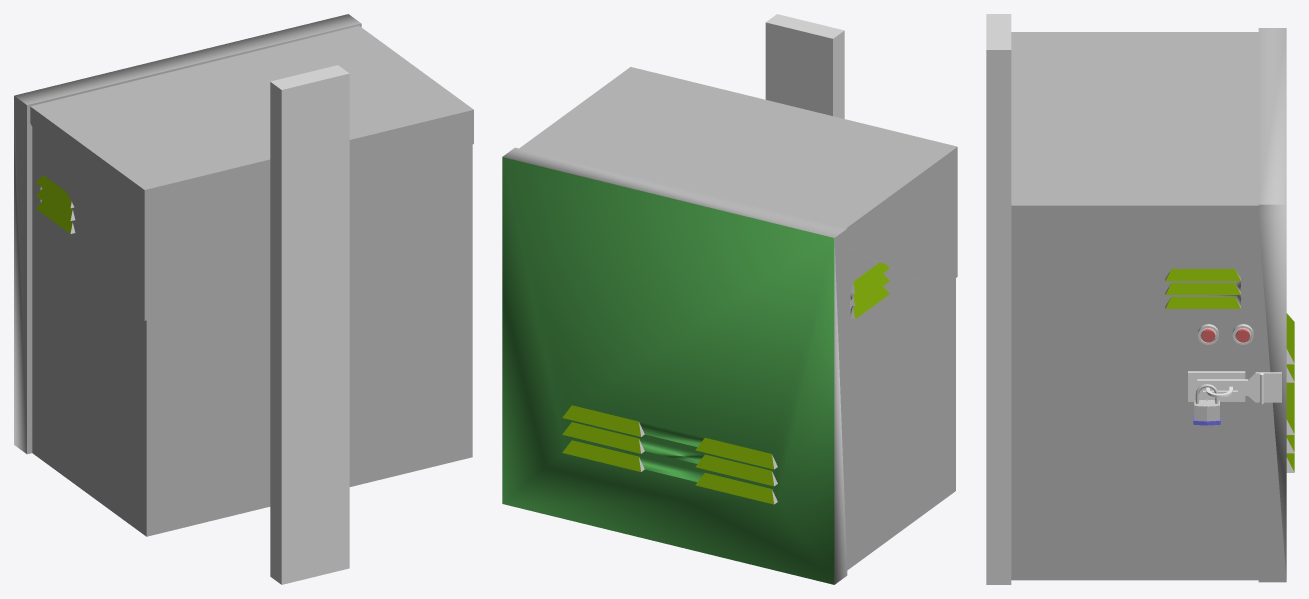
The model's file is ElectricalBox_A.fbx.
3 renders of one model, left to right at view 1: azimuth 30°, elevation 25°; view 2: azimuth 150°, elevation 25°; view 3: azimuth 270°, elevation 25°, orthographic. The views are drawn at different scales.
Parts seen in each view (by area): view 1: ElectricalBox_A; view 2: ElectricalBox_A; view 3: ElectricalBox_A.
Boxes of the visible parts, box(x1,y1,x2,y2) form: ElectricalBox_A: box(14, 14, 473, 584); ElectricalBox_A: box(502, 14, 957, 584); ElectricalBox_A: box(986, 14, 1294, 584).
Bounding box in the file's own units: 74.44 × 101 × 52.53.
